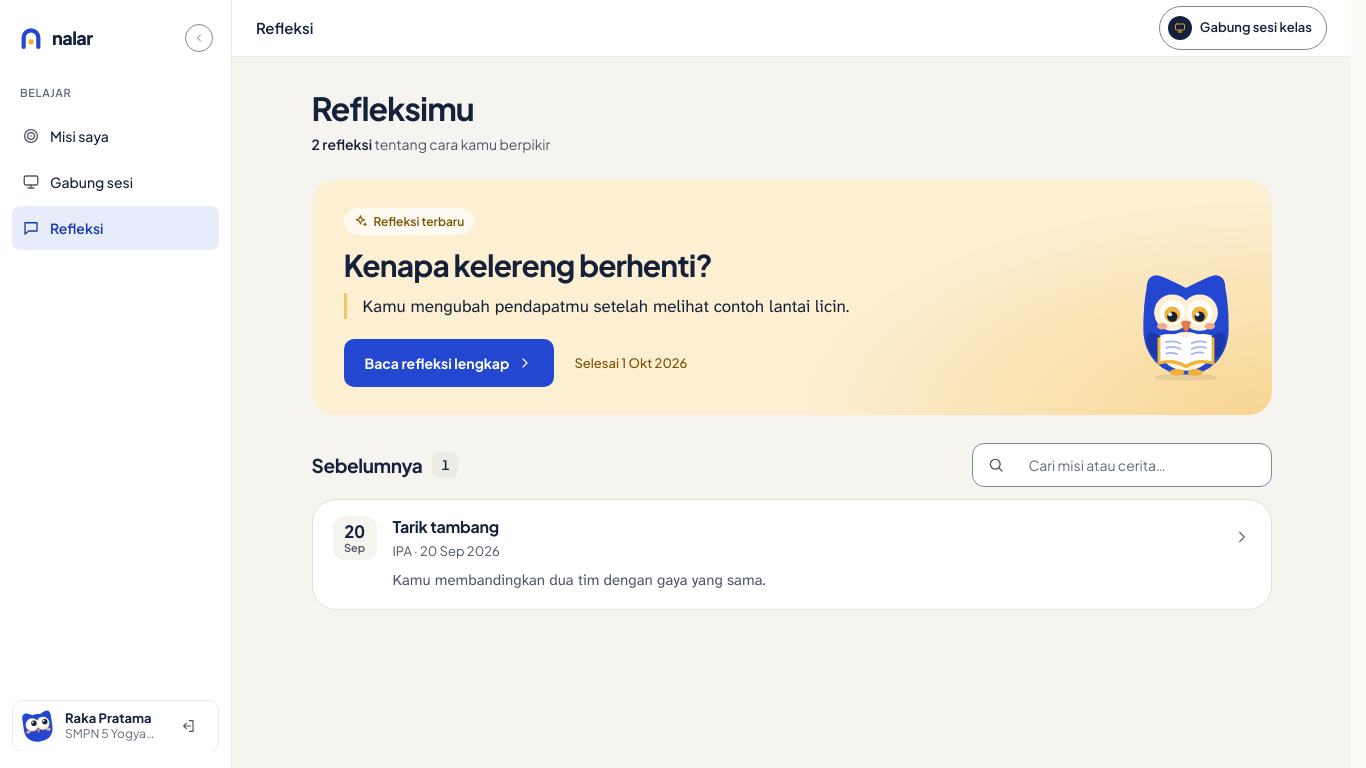
Test: signed-in student pages › lists past reflections, newest first, each opening its finished session, without any score
In the search field named "Cari refleksi": (1134, 465) [1012,445,1256,486], type "pesawat"
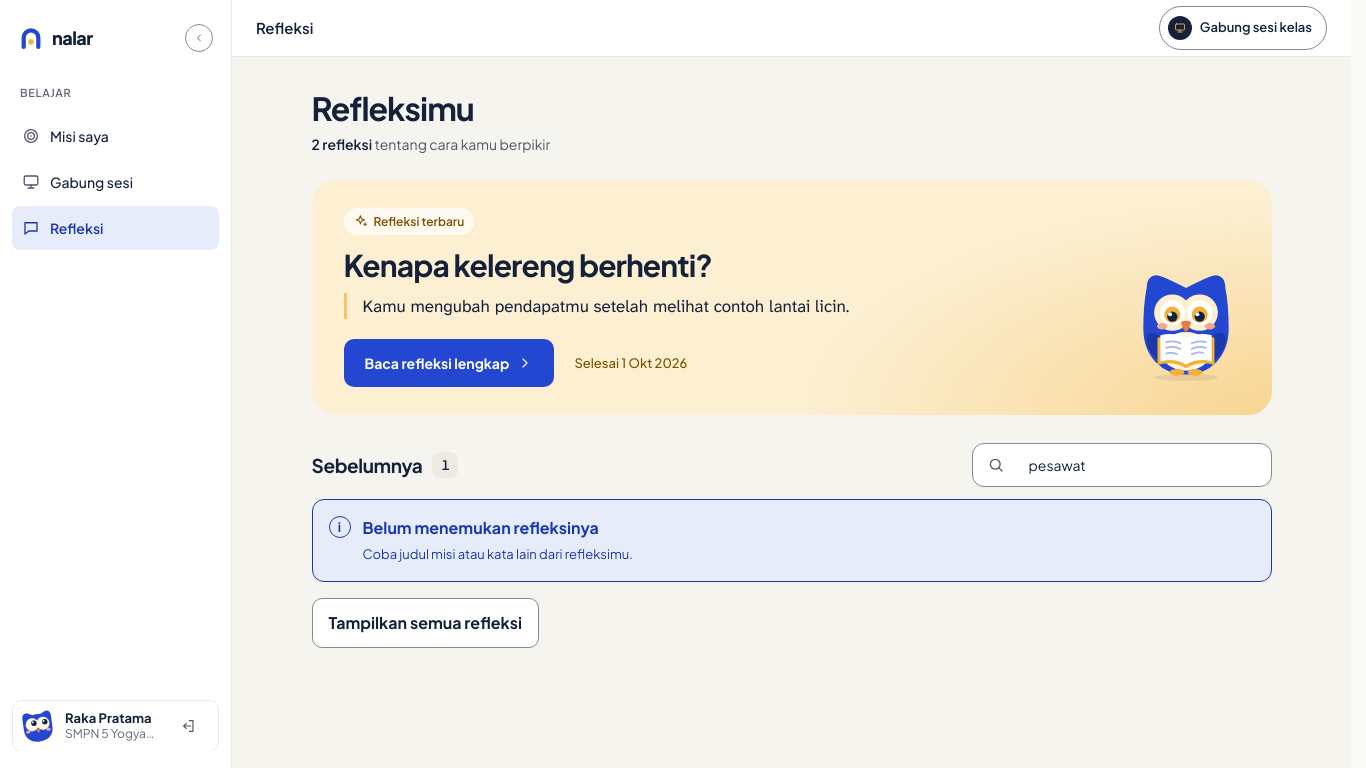
Click the button "Tampilkan semua refleksi": (425, 623) [312,598,539,648]
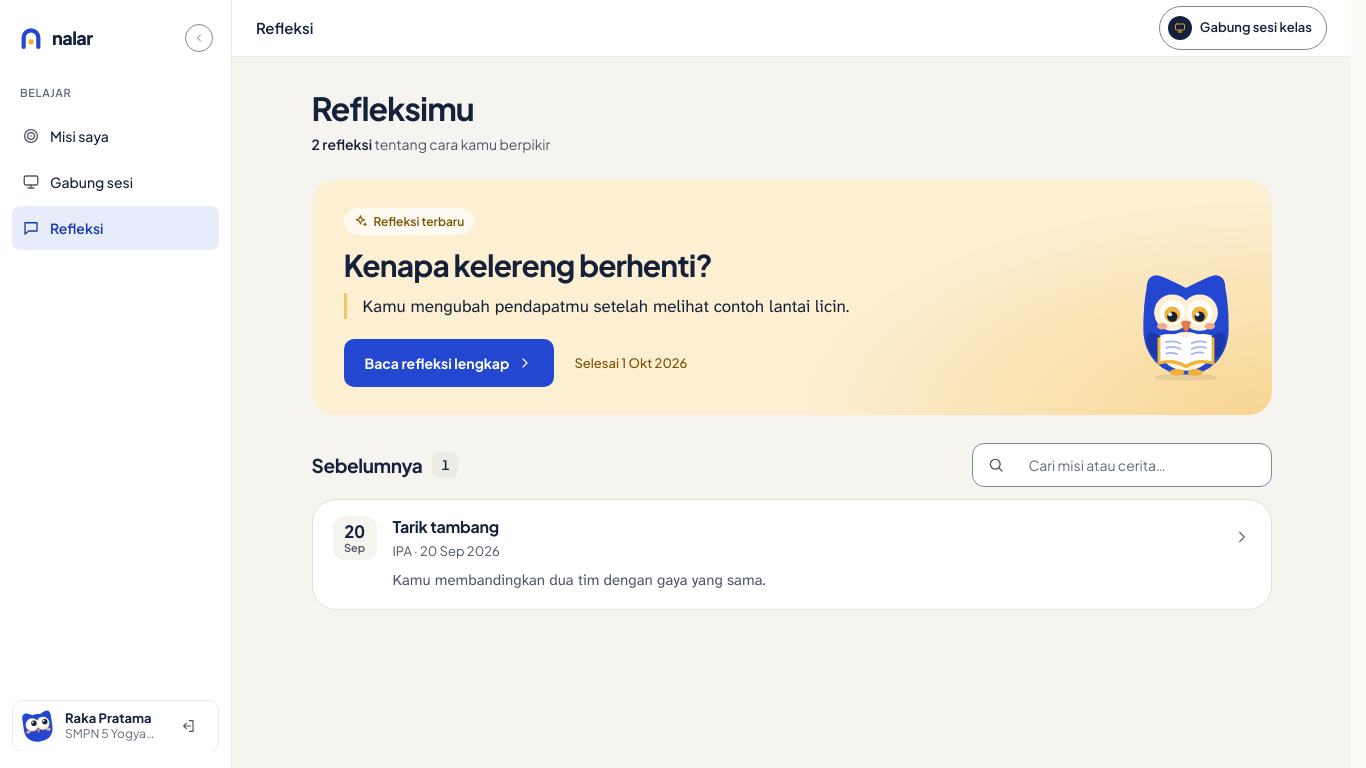
expect the link "Tarik tambang" is shown: met, box [312,500,1270,609]
